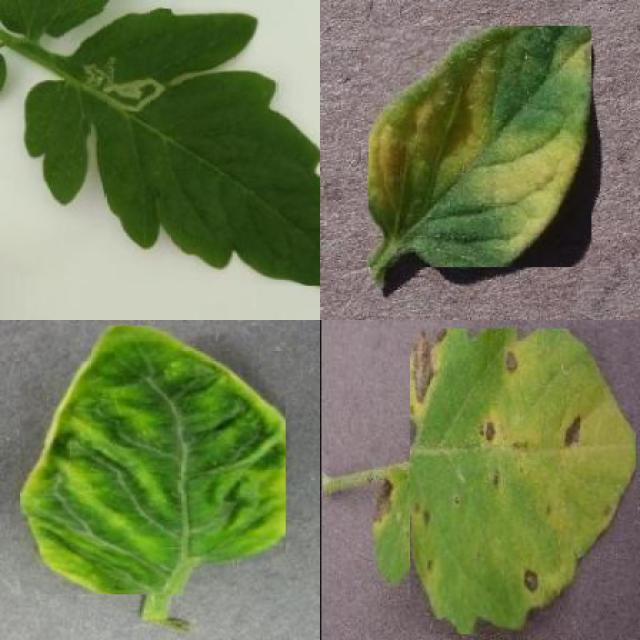Leaf Miner: (20, 8, 320, 286)
Leaf Mold: (368, 26, 592, 267)
Septoria: (411, 329, 636, 635)
Yellow Leaf Curl Virus: (20, 326, 286, 594)
